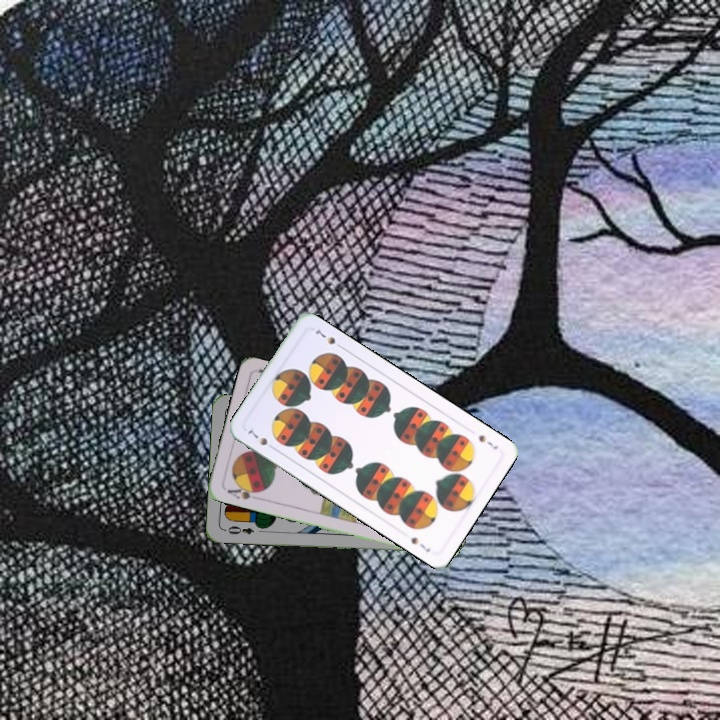EO: (220, 522, 256, 537)
S7: (243, 426, 278, 453), (474, 431, 501, 452)
SA: (223, 481, 263, 502)
